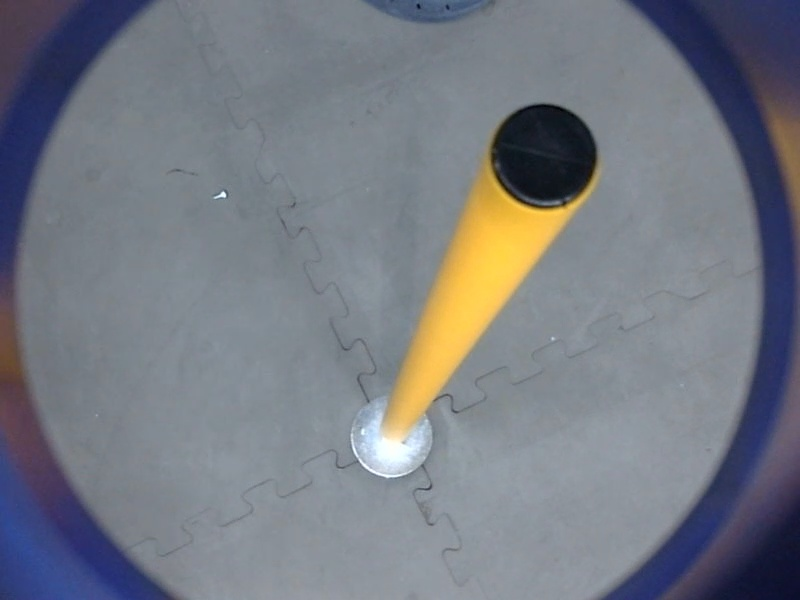tip: (484, 95, 610, 216)
